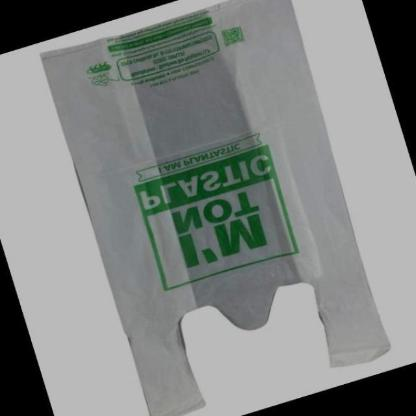Others: (38, 0, 392, 416)
